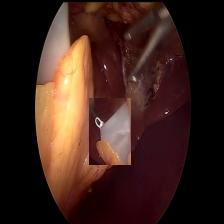Specimen Bag: (88, 97, 130, 164)
